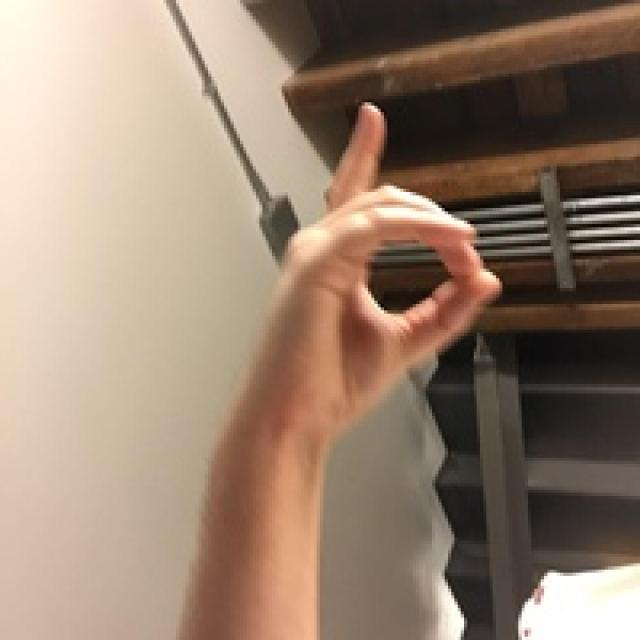D: (179, 69, 538, 488)
